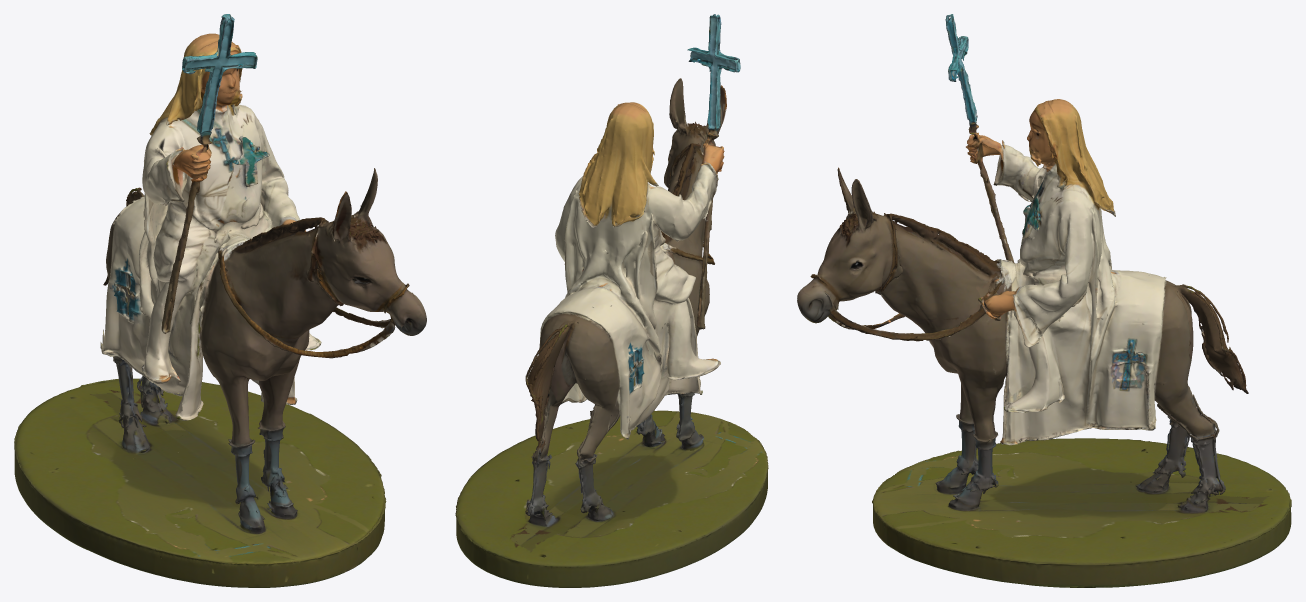
The model's file is Knight_on_Donkey.glb.
The picture shows the model from 3 angles, left to right: view 1: azimuth 30°, elevation 25°; view 2: azimuth 150°, elevation 25°; view 3: azimuth 270°, elevation 25°; orthographic projection. The views are drawn at different scales.
Size of the model in its own units: 1.1 by 1.99 by 1.82.
Materials: 1 (1 with a texture image).
